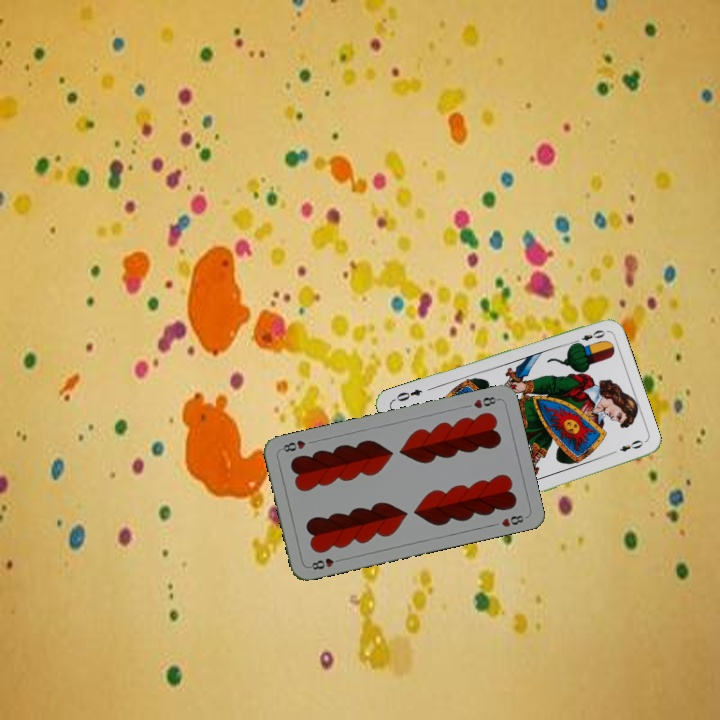EO: (569, 326, 608, 347)
H8: (305, 554, 345, 572), (469, 392, 501, 411)
